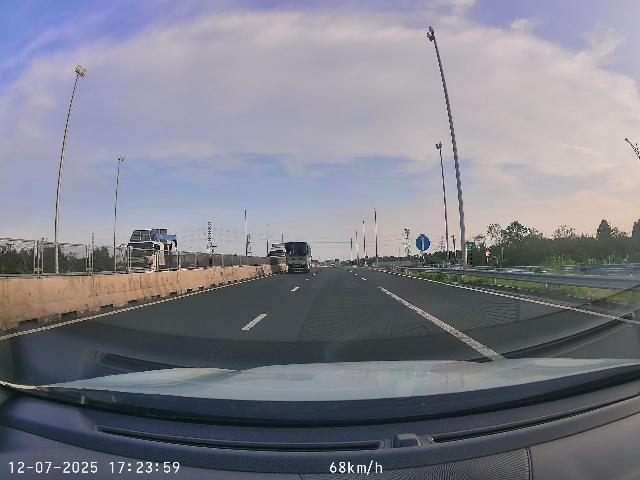301a-cac-xe-chi-duoc-di-thang: (415, 235, 430, 251)
